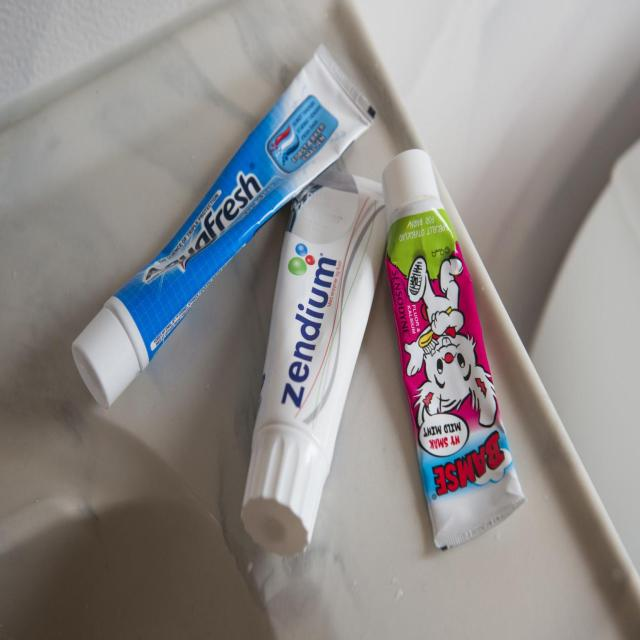Toothpaste: (59, 36, 378, 415), (236, 142, 378, 560), (382, 143, 526, 551)
